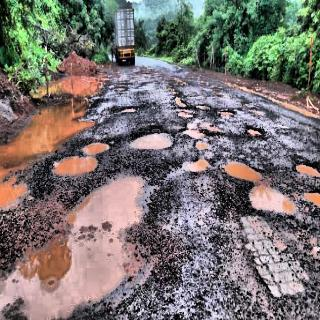pothole: (0, 168, 155, 320), (0, 74, 111, 170), (237, 208, 310, 300), (218, 154, 296, 218), (52, 135, 117, 177), (180, 124, 215, 172), (292, 160, 320, 207), (132, 124, 175, 152), (169, 88, 197, 120), (243, 123, 262, 140), (220, 109, 237, 119), (120, 105, 137, 114)
